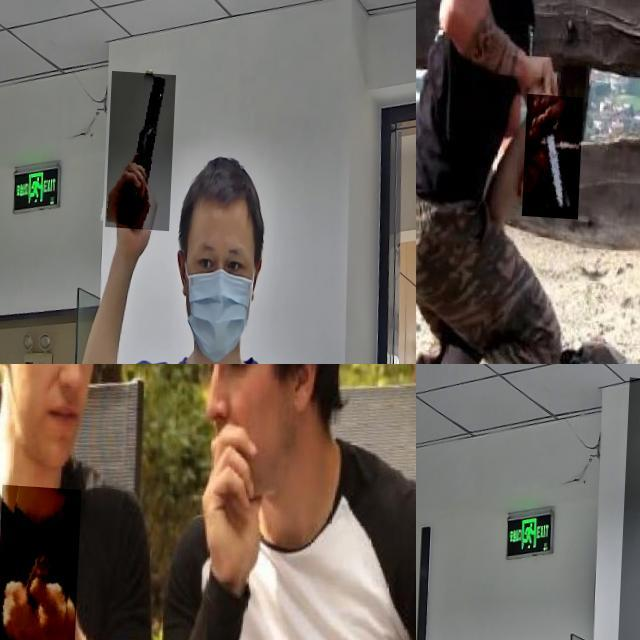-: (0, 482, 84, 640), (525, 90, 585, 215)
gun-knife-thesis - v11 Yolov5 augmented: (109, 67, 179, 226)
